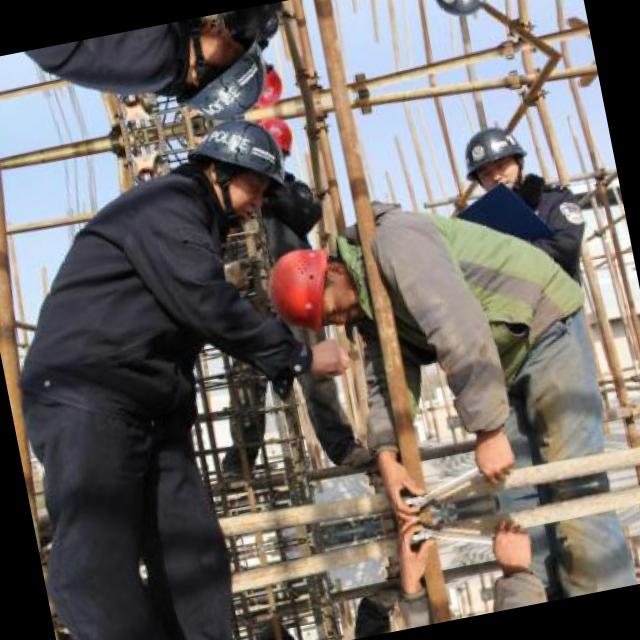helmet: (183, 112, 292, 232), (163, 10, 272, 128), (256, 236, 364, 338), (456, 121, 532, 200), (254, 114, 297, 164), (244, 59, 286, 110), (425, 0, 498, 23)
